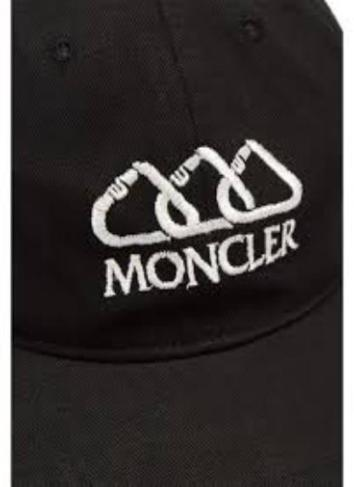MONCLER: (90, 217, 305, 297)
